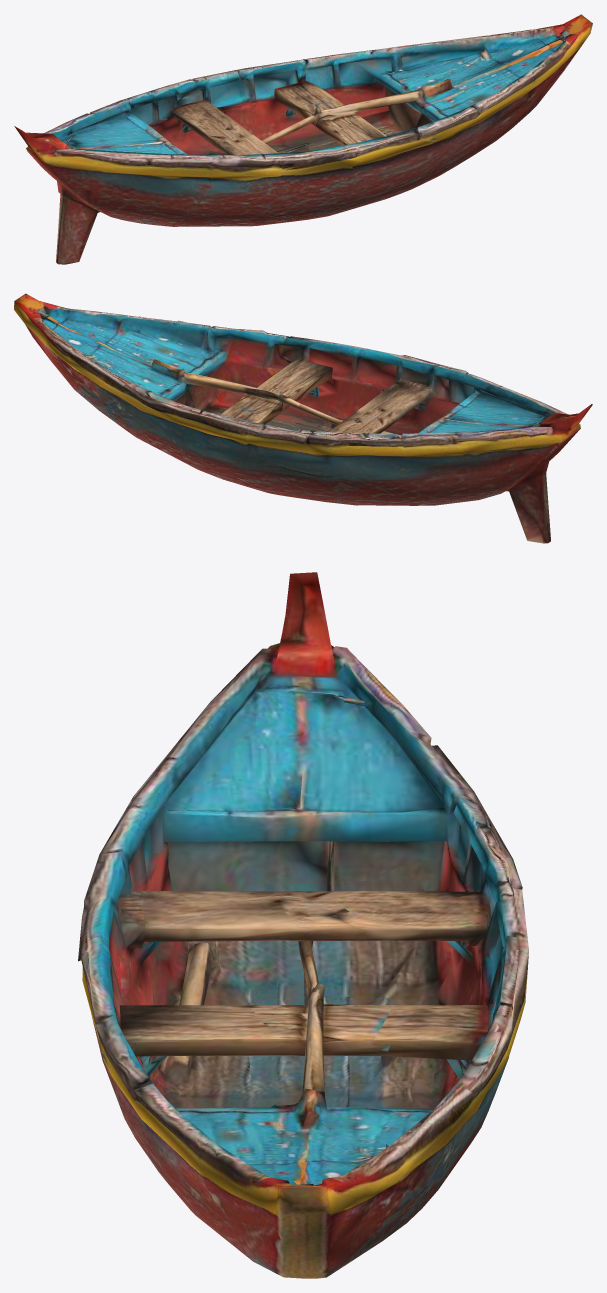
File: boat-lod.glb
The picture shows the model from 3 angles, top to bottom: view 1: azimuth 30°, elevation 25°; view 2: azimuth 150°, elevation 25°; view 3: azimuth 270°, elevation 25°; orthographic projection. The views are drawn at different scales.
Visible parts, largest first — view 1: tripo_node_ce566a43-ad53-47f5-b3ce-cf83857ab32c; view 2: tripo_node_ce566a43-ad53-47f5-b3ce-cf83857ab32c; view 3: tripo_node_ce566a43-ad53-47f5-b3ce-cf83857ab32c.
Boxes of the visible parts, x1=… form: tripo_node_ce566a43-ad53-47f5-b3ce-cf83857ab32c: x1=14, y1=14, x2=592, y2=264; tripo_node_ce566a43-ad53-47f5-b3ce-cf83857ab32c: x1=14, y1=293, x2=592, y2=543; tripo_node_ce566a43-ad53-47f5-b3ce-cf83857ab32c: x1=78, y1=572, x2=528, y2=1278.
Bounding box in the file's own units: 0.9997 × 0.2476 × 0.3426.
1 material, 1 textured.
